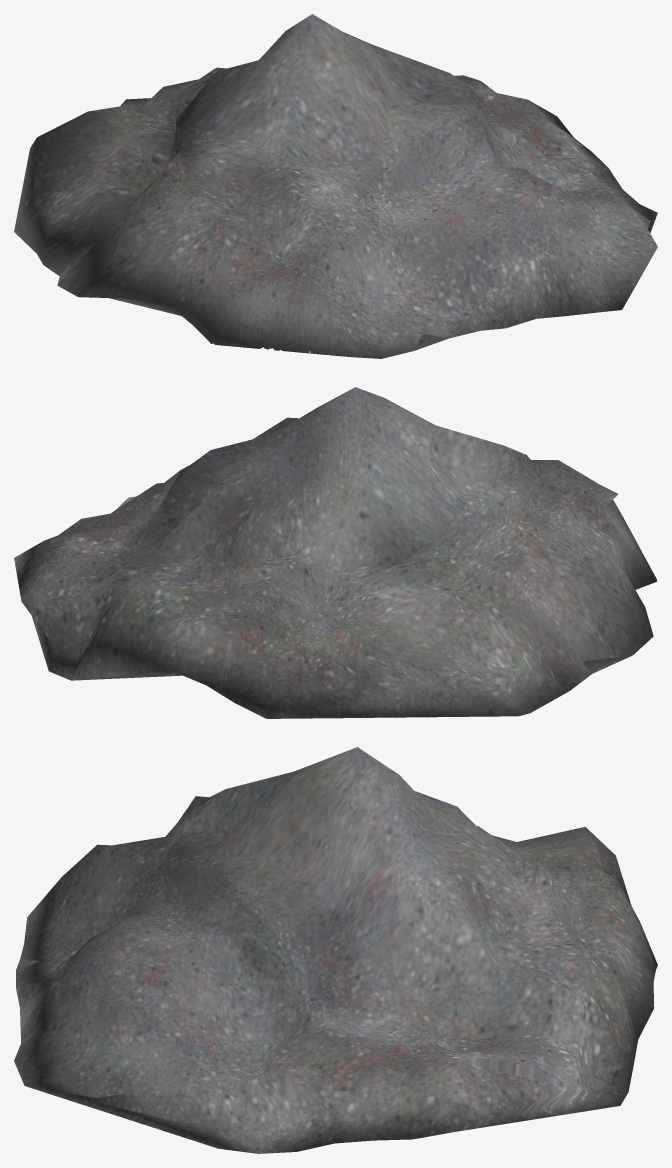
Rendered from Pol.fbx.
The picture shows the model from 3 angles, top to bottom: view 1: azimuth 30°, elevation 25°; view 2: azimuth 150°, elevation 25°; view 3: azimuth 270°, elevation 25°; orthographic projection. The views are drawn at different scales.
Visible parts, largest first — view 1: Plane; view 2: Plane; view 3: Plane.
Boxes of the visible parts, x1=… form: Plane: x1=14, y1=14, x2=657, y2=358; Plane: x1=14, y1=387, x2=657, y2=718; Plane: x1=14, y1=747, x2=657, y2=1153.
Bounding box in the file's own units: 225 × 91.61 × 205.
